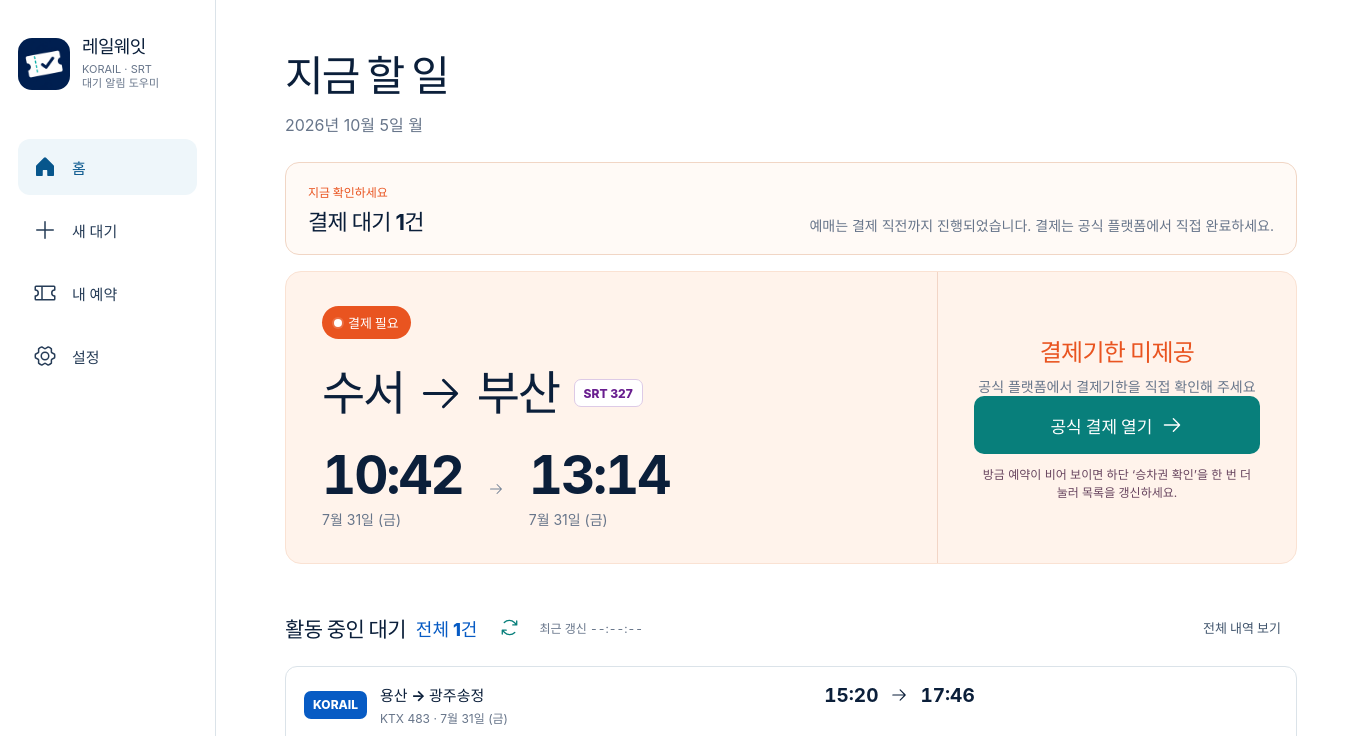
it: RailWait responsive core flow › describes password authentication without legacy Passkey copy
Click the button "설정".
click(108, 356)  # box [18,328,197,384]
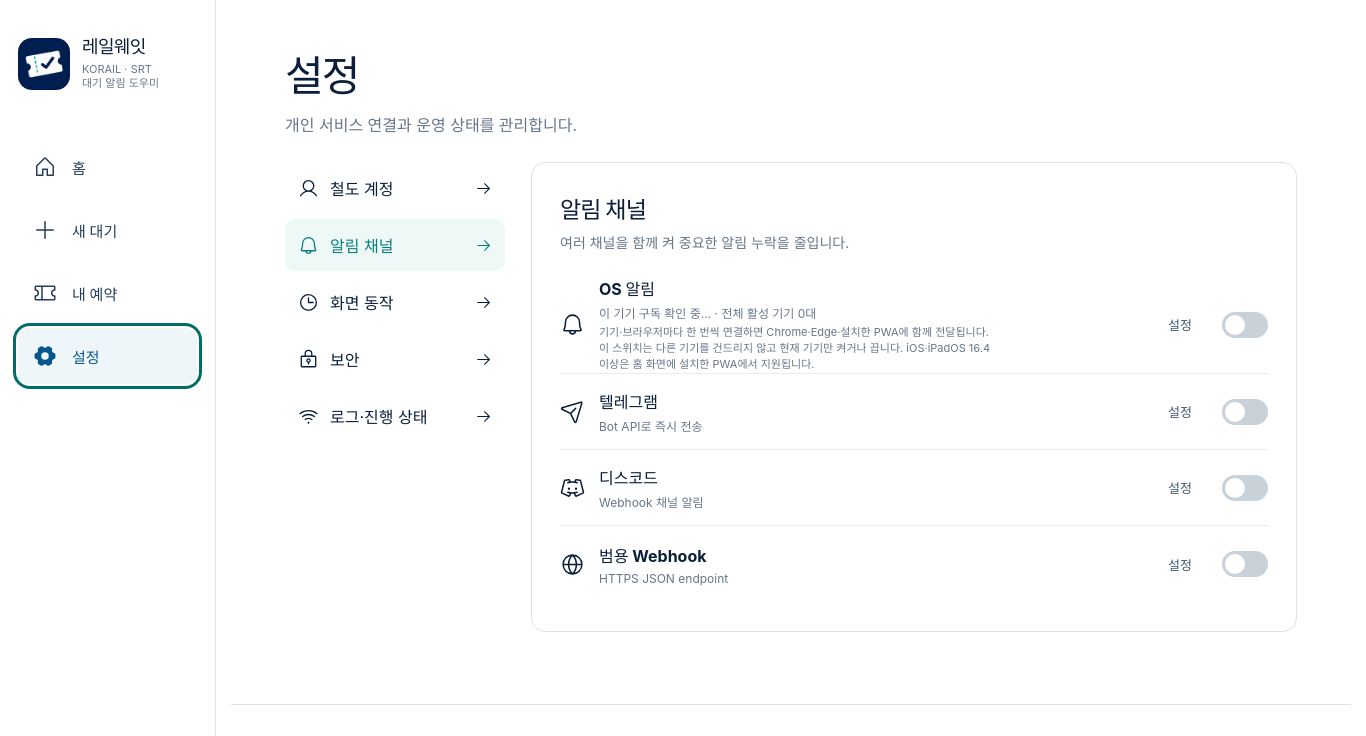
Click the button "보안".
click(395, 359)  # box [285,333,505,385]
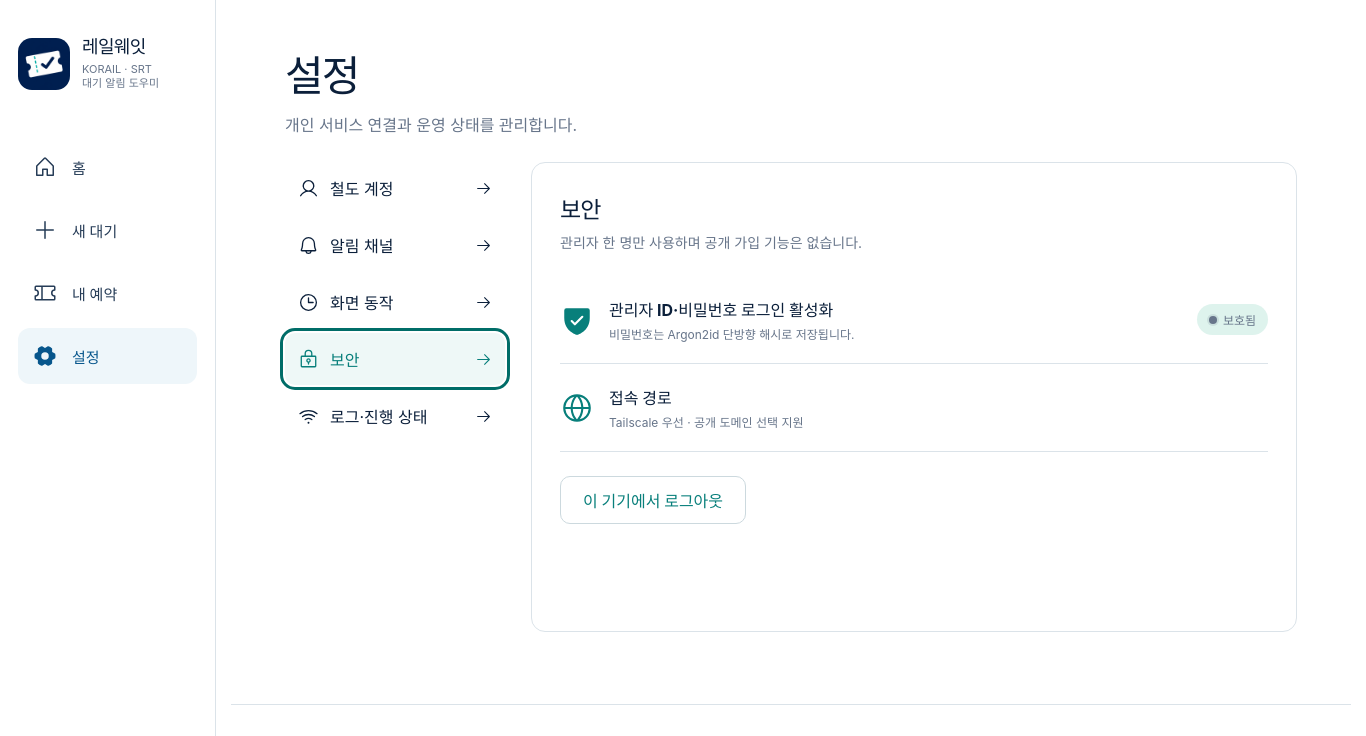
Expected: the text "관리자 ID·비밀번호 로그인 활성화" is shown, [609,300,833,320]
Expected: the text "비밀번호는 Argon2id 단방향 해시로 저장됩니다." is shown, [609,327,854,342]
